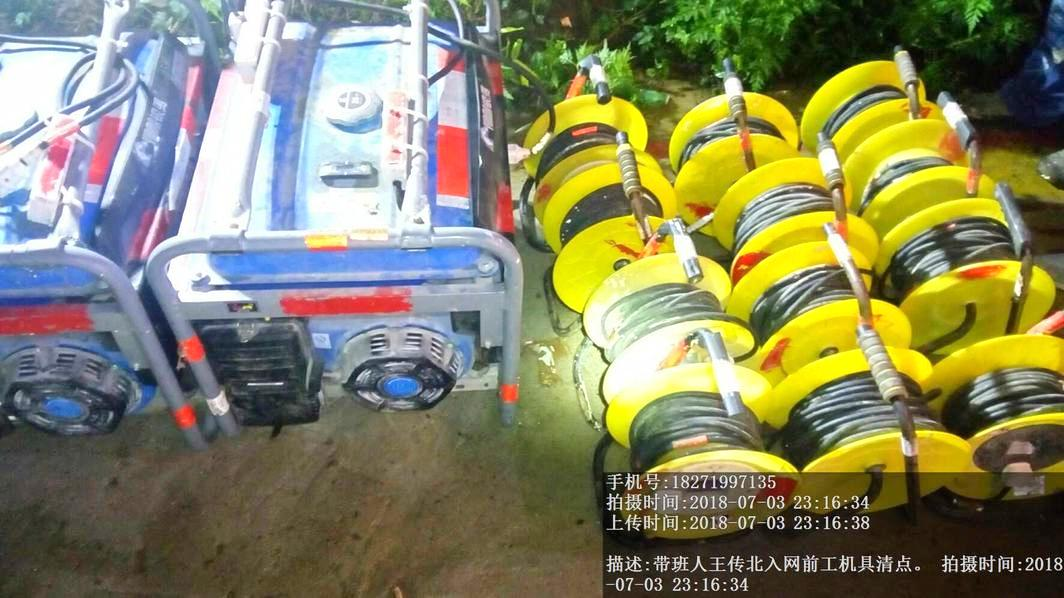DJ: (152, 17, 521, 424), (1, 25, 162, 441)
DX: (790, 357, 972, 471), (888, 209, 1057, 329), (596, 369, 787, 475), (568, 252, 745, 358), (724, 246, 893, 345), (962, 324, 1064, 453)
